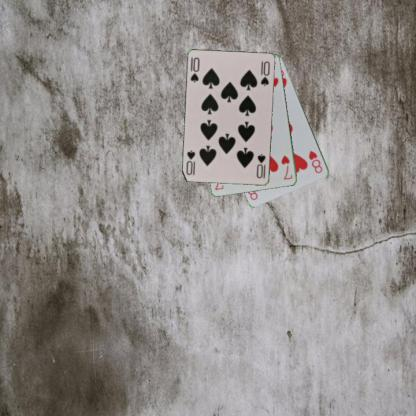10s: (254, 151, 267, 180), (188, 55, 201, 84)
7h: (278, 153, 294, 181)
8h: (306, 148, 324, 174)
